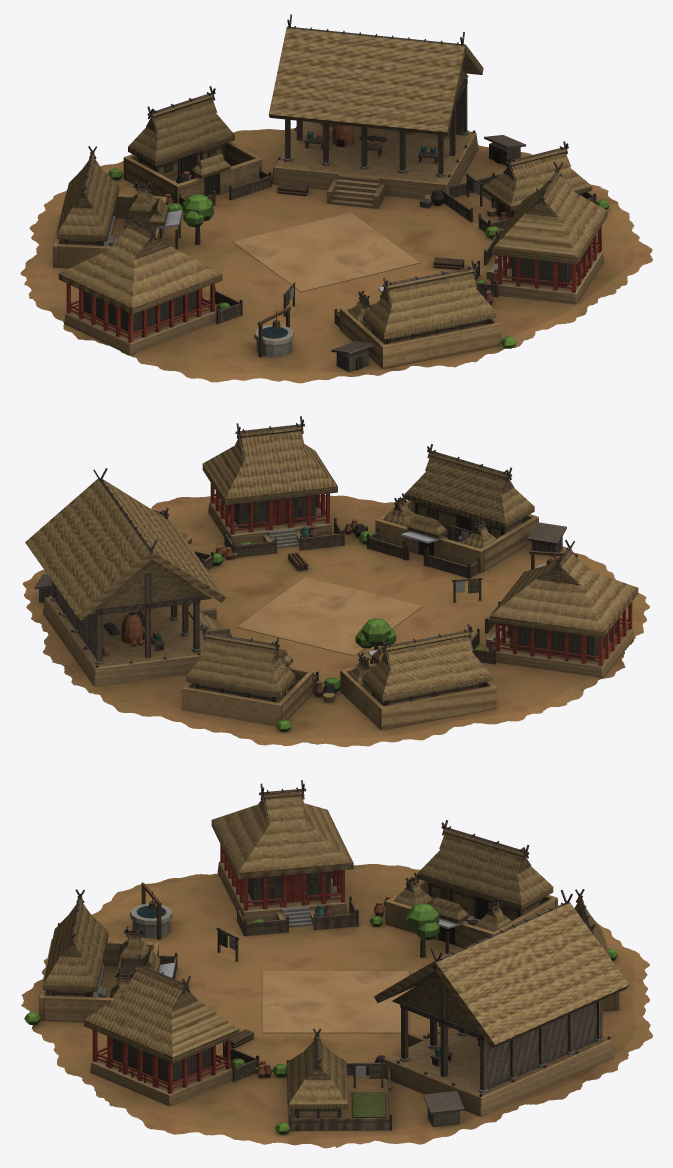
The model's file is bronze-town-small-a-sinic.glb.
The picture shows the model from 3 angles, top to bottom: view 1: azimuth 30°, elevation 25°; view 2: azimuth 150°, elevation 25°; view 3: azimuth 270°, elevation 25°; orthographic projection. The views are drawn at different scales.
Visible parts, largest first — view 1: LOD0; view 2: LOD0; view 3: LOD0.
Boxes of the visible parts, x1=… form: LOD0: x1=20, y1=14, x2=652, y2=383; LOD0: x1=22, y1=416, x2=649, y2=747; LOD0: x1=21, y1=780, x2=652, y2=1148.
Size of what is drawn, in the model's own units: 3.98 by 0.9674 by 3.71.
Materials: 3 (3 with a texture image).
